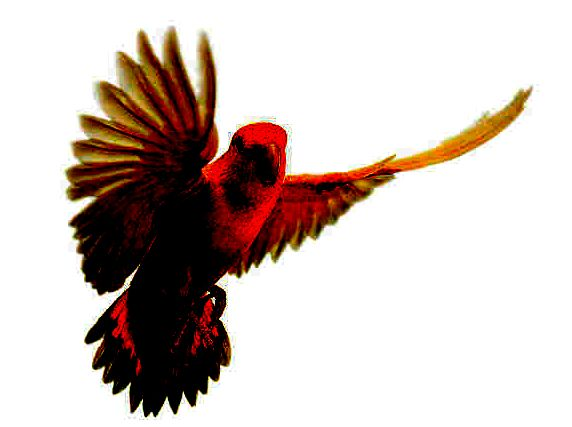Bird: (62, 20, 533, 417)
